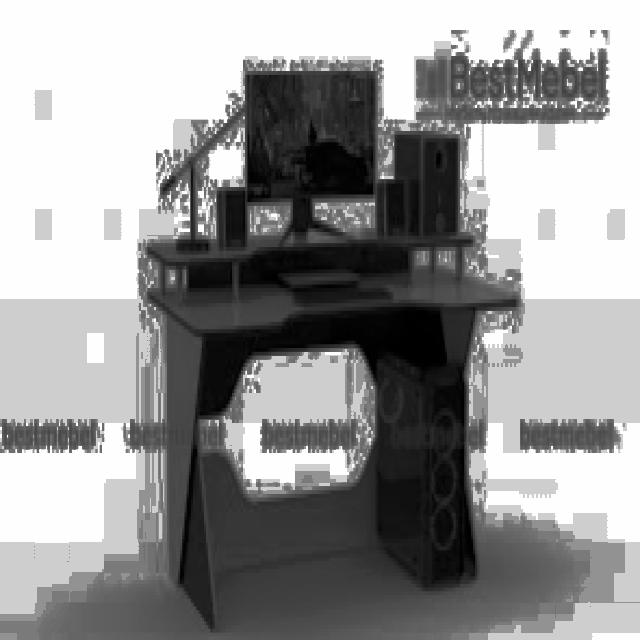table: (146, 228, 516, 629)
